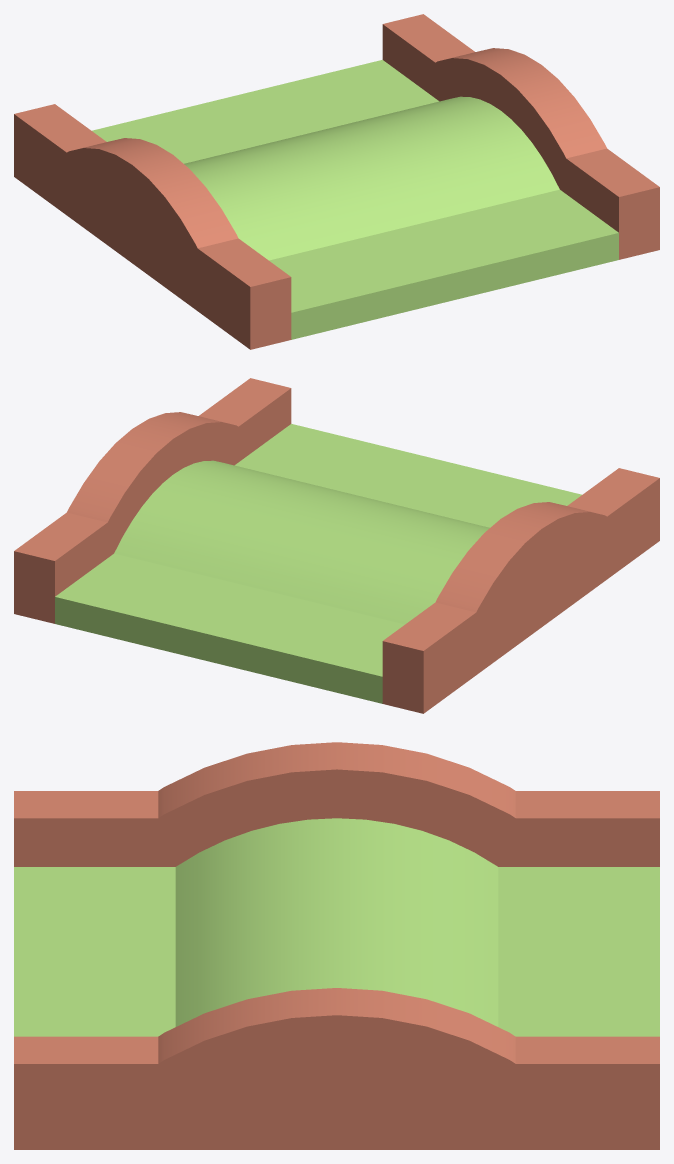
The model's file is Hill_round_01.glb.
The picture shows the model from 3 angles, top to bottom: view 1: azimuth 30°, elevation 25°; view 2: azimuth 150°, elevation 25°; view 3: azimuth 270°, elevation 25°; orthographic projection. The views are drawn at different scales.
Visible parts, largest first — view 1: Mesh1 Hill_round Model; view 2: Mesh1 Hill_round Model; view 3: Mesh1 Hill_round Model.
Part boxes in pixels (x1=…): Mesh1 Hill_round Model: x1=14, y1=14, x2=659, y2=349; Mesh1 Hill_round Model: x1=14, y1=378, x2=659, y2=713; Mesh1 Hill_round Model: x1=14, y1=742, x2=659, y2=1149.
Bounding box in the file's own units: 3 × 0.69 × 3.
